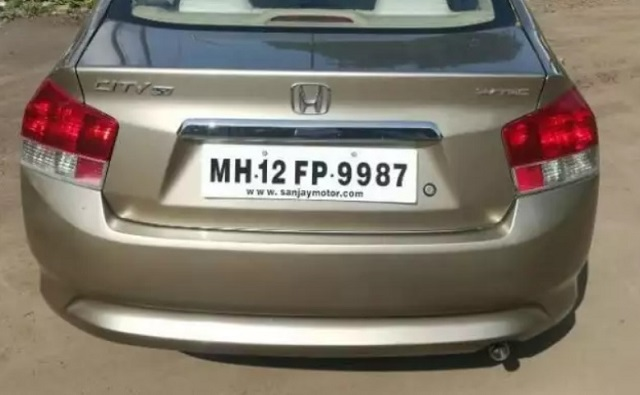licenseplate: (199, 142, 425, 207)
